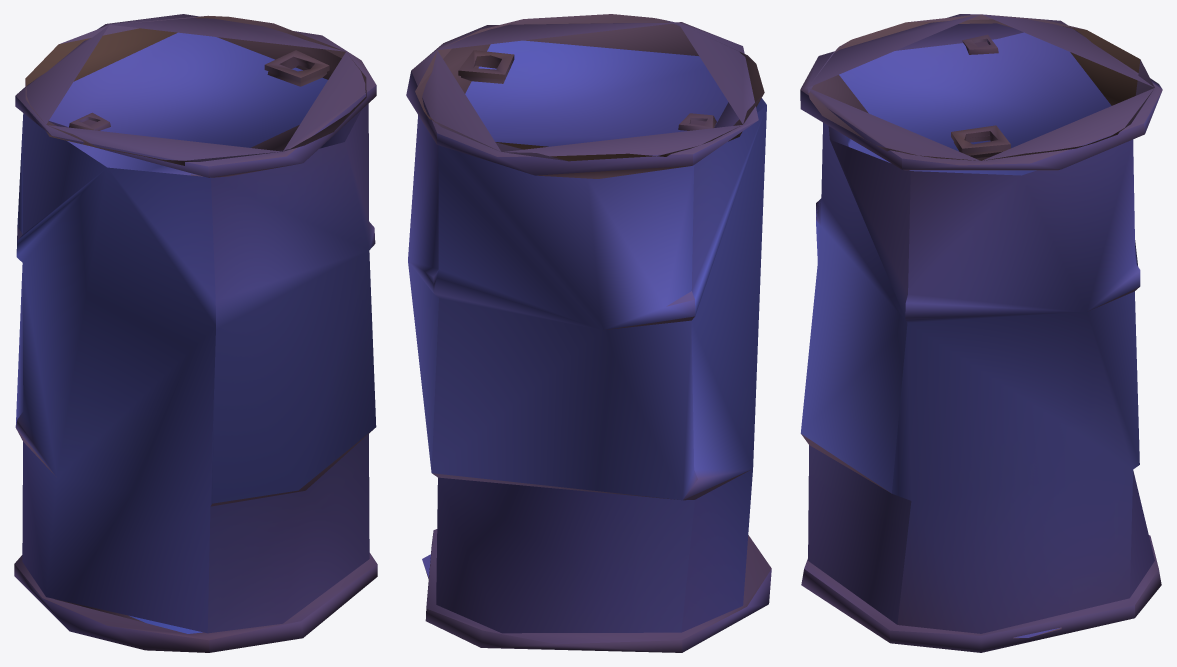
File: model.progressive.glb
The picture shows the model from 3 angles, left to right: view 1: azimuth 30°, elevation 25°; view 2: azimuth 150°, elevation 25°; view 3: azimuth 270°, elevation 25°; orthographic projection.
Visible parts, largest first — view 1: RustyOilBarrel3; view 2: RustyOilBarrel3; view 3: RustyOilBarrel3.
Boxes of the visible parts, bbox=[...] form: RustyOilBarrel3: bbox=[14, 14, 377, 652]; RustyOilBarrel3: bbox=[406, 14, 771, 652]; RustyOilBarrel3: bbox=[800, 14, 1162, 652].
Size of the model in its own units: 1.26 by 1.89 by 1.27.
1 material, 1 textured.
